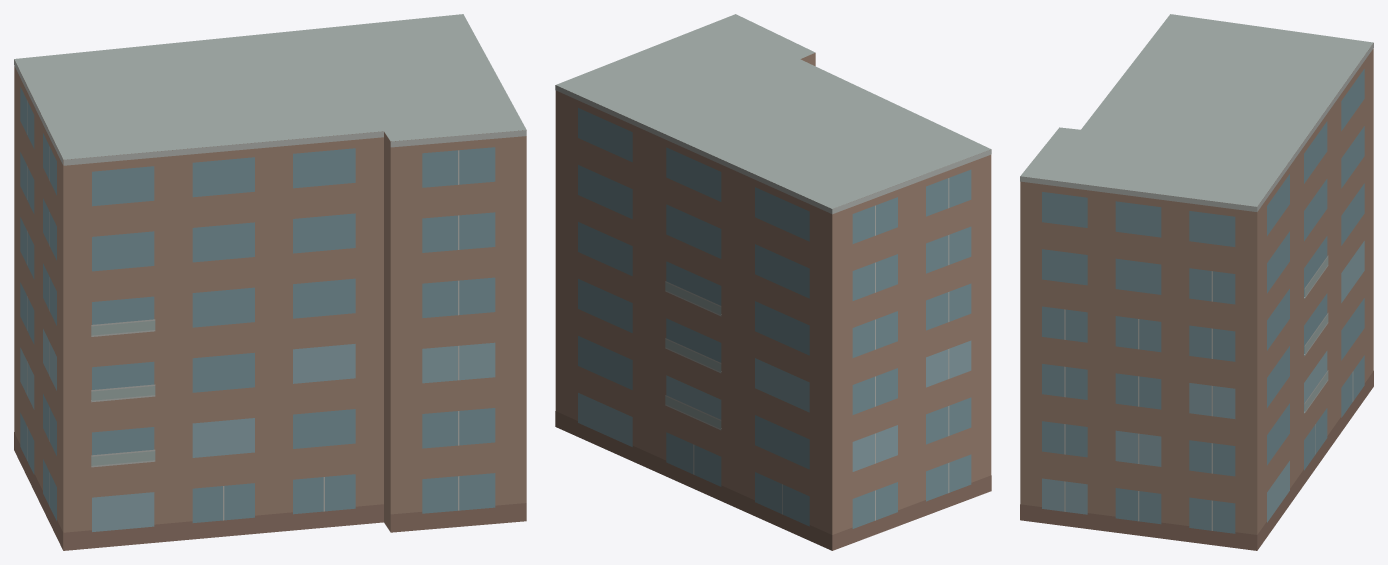
File: survey-upis-33036814.glb
3 views of the same model, side by side, from view 1: azimuth 30°, elevation 25°; view 2: azimuth 150°, elevation 25°; view 3: azimuth 270°, elevation 25° (orthographic). The views are drawn at different scales.
Visible parts, largest first — view 1: survey-upis-33036814.tmp; view 2: survey-upis-33036814.tmp; view 3: survey-upis-33036814.tmp.
Boxes of the visible parts, bbox=[...] form: survey-upis-33036814.tmp: bbox=[14, 14, 526, 550]; survey-upis-33036814.tmp: bbox=[555, 14, 991, 550]; survey-upis-33036814.tmp: bbox=[1020, 14, 1373, 550].
Bounding box in the file's own units: 19.13 × 15.9 × 14.82.
